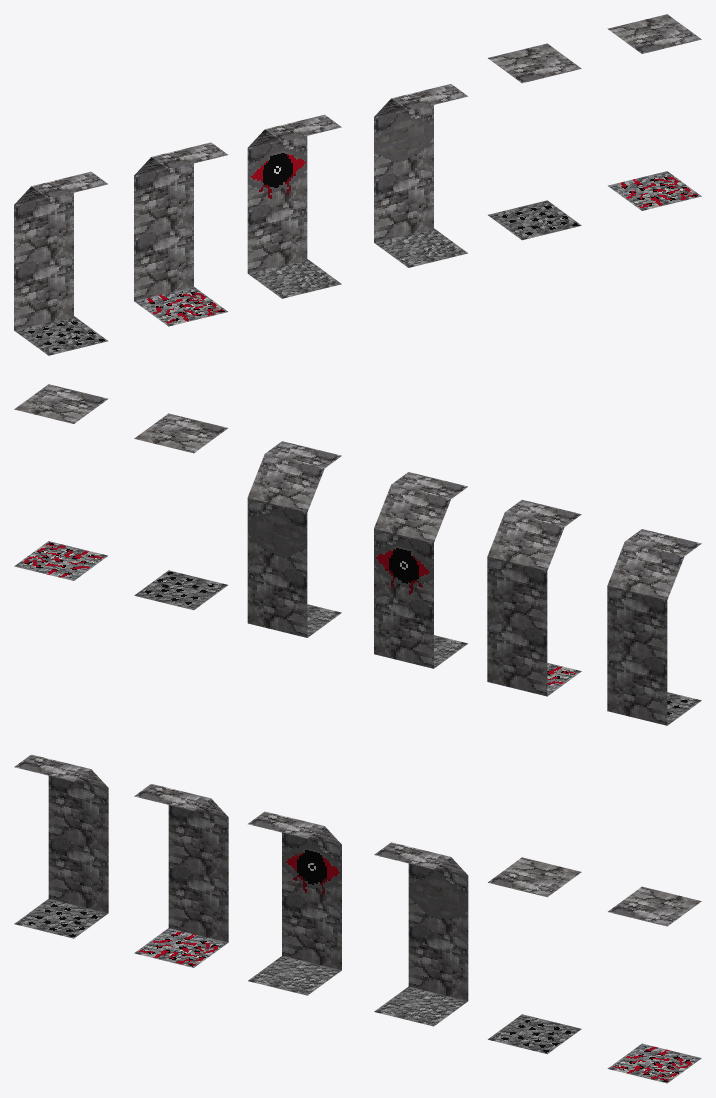
File: trap_tiles.glb
3 renders of one model, top to bottom at view 1: azimuth 30°, elevation 25°; view 2: azimuth 150°, elevation 25°; view 3: azimuth 330°, elevation 25°, orthographic.
Visible parts, largest first — view 1: eye-opened-wall-col, sus-closed-wall-col, sus-active-wall-col, eye-closed-wall-col, sus-active-col, sus-closed-col; view 2: eye-closed-wall-col, sus-closed-wall-col, sus-active-wall-col, eye-opened-wall-col, sus-active-col, sus-closed-col; view 3: sus-closed-wall-col, eye-closed-wall-col, sus-active-wall-col, eye-opened-wall-col, sus-active-col, sus-closed-col.
Boxes of the visible parts, left/top/right/bottom form: eye-opened-wall-col: left=247, top=114, right=341, bottom=298; sus-closed-wall-col: left=14, top=171, right=108, bottom=355; sus-active-wall-col: left=134, top=142, right=227, bottom=326; eye-closed-wall-col: left=374, top=84, right=467, bottom=267; sus-active-col: left=607, top=14, right=701, bottom=210; sus-closed-col: left=488, top=43, right=581, bottom=240; eye-closed-wall-col: left=247, top=441, right=341, bottom=637; sus-closed-wall-col: left=607, top=529, right=701, bottom=725; sus-active-wall-col: left=487, top=499, right=581, bottom=696; eye-opened-wall-col: left=374, top=472, right=467, bottom=668; sus-active-col: left=14, top=384, right=108, bottom=580; sus-closed-col: left=134, top=413, right=227, bottom=610; sus-closed-wall-col: left=14, top=754, right=108, bottom=938; eye-closed-wall-col: left=374, top=842, right=468, bottom=1026; sus-active-wall-col: left=134, top=784, right=228, bottom=967; eye-opened-wall-col: left=248, top=811, right=341, bottom=995; sus-active-col: left=607, top=886, right=701, bottom=1083; sus-closed-col: left=488, top=857, right=581, bottom=1054.
Size of the model in its own units: 10.89 by 2.5 by 1.
Materials: 8 (8 with a texture image).
